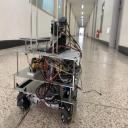cart: (10, 45, 82, 124)
